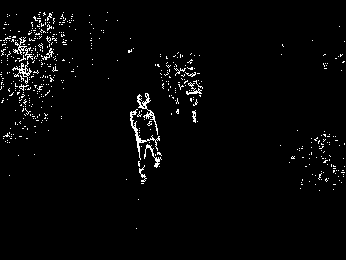person: (129, 91, 161, 184)
